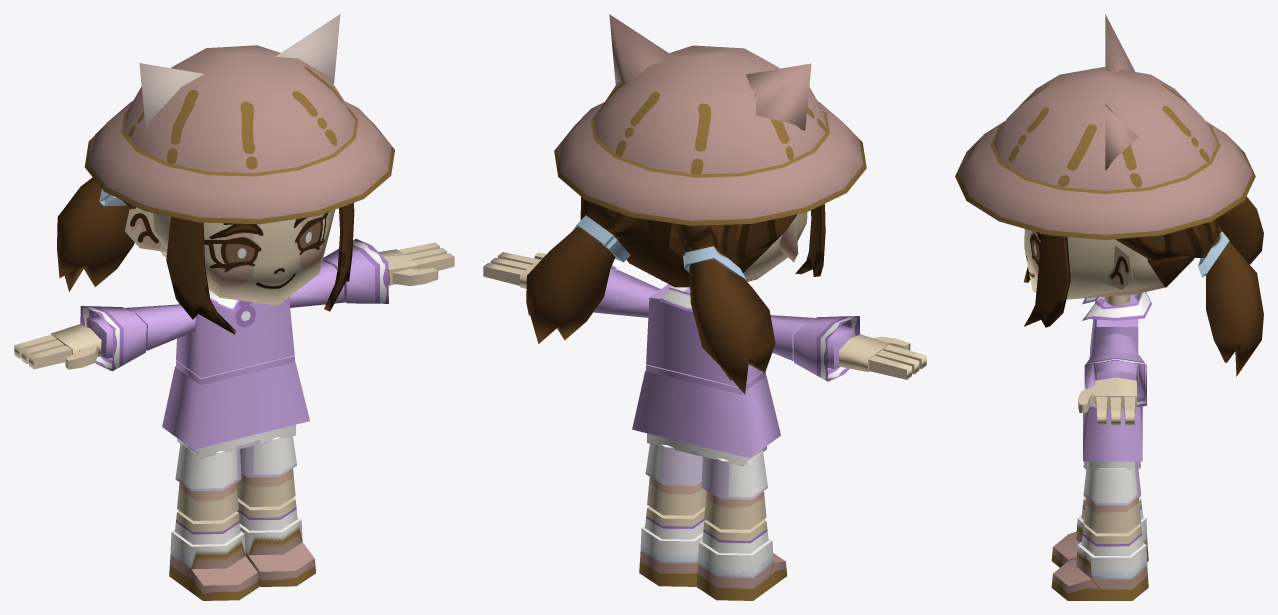
Rendered from rainygirl.fbx.
3 renders of one model, left to right at view 1: azimuth 30°, elevation 25°; view 2: azimuth 150°, elevation 25°; view 3: azimuth 270°, elevation 25°, orthographic. The views are drawn at different scales.
Visible parts, largest first — view 1: v1.6 kid base.007, Cylinder.001, Girl Hair, head; view 2: v1.6 kid base.007, Cylinder.001, Girl Hair, head; view 3: Cylinder.001, v1.6 kid base.007, Girl Hair, head.
Boxes of the visible parts, x1,y1,x2,y2 form: v1.6 kid base.007: (14,239,454,600); Cylinder.001: (84,14,394,224); Girl Hair: (57,177,354,334); head: (125,207,334,305); v1.6 kid base.007: (483,252,926,600); Cylinder.001: (554,14,866,225); Girl Hair: (526,197,825,394); head: (743,212,807,281); Cylinder.001: (955,14,1255,239); v1.6 kid base.007: (1051,292,1151,600); Girl Hair: (1023,196,1263,376); head: (1024,229,1164,299).
Bounding box in the file's own units: 3.53 × 4.28 × 2.34.
4 materials, 4 textured.
